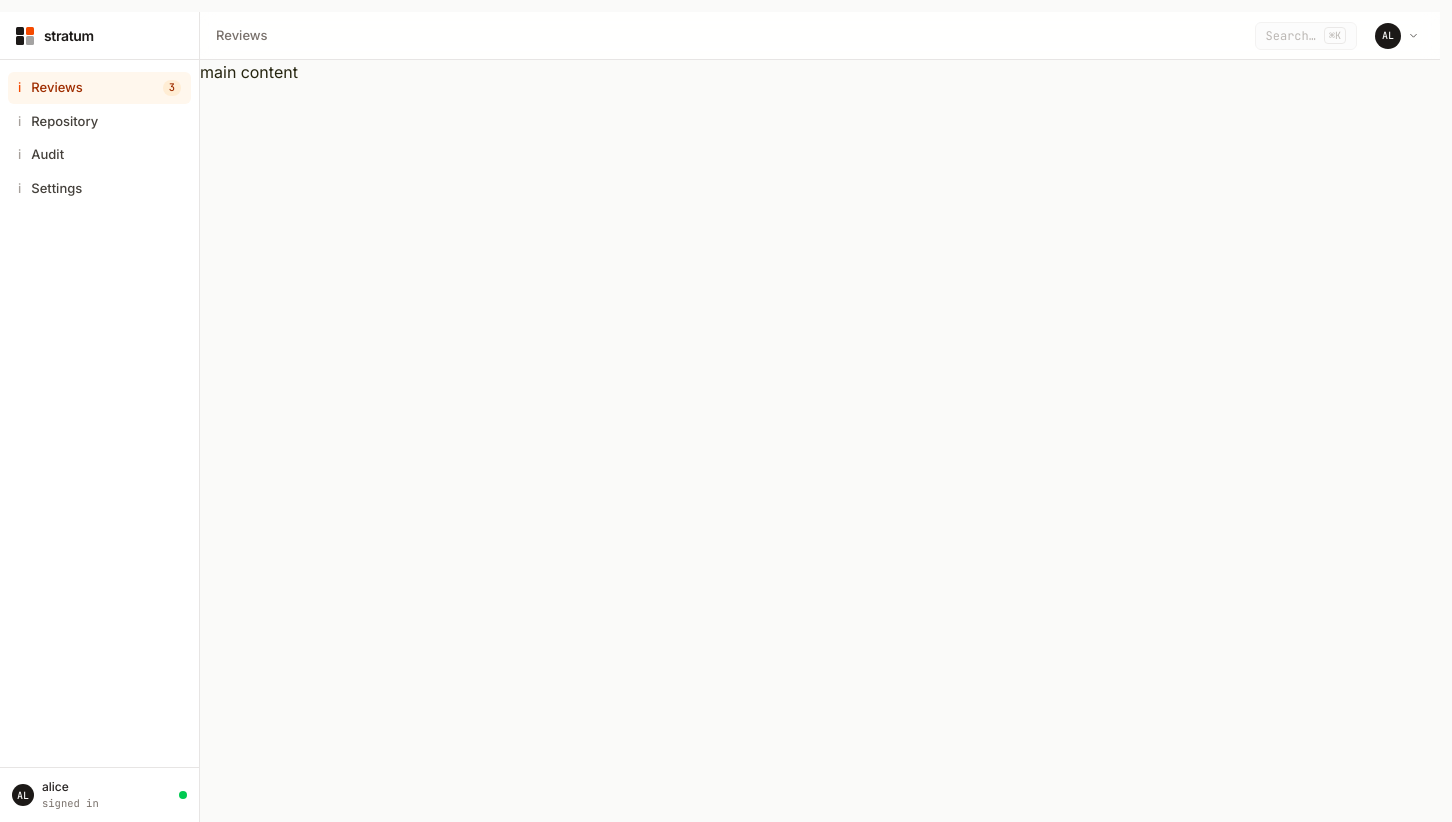
AppShell — user menu › shows the username in the menu after opening
Click the button "AL" at (1396, 36), box [1369,20,1424,50]
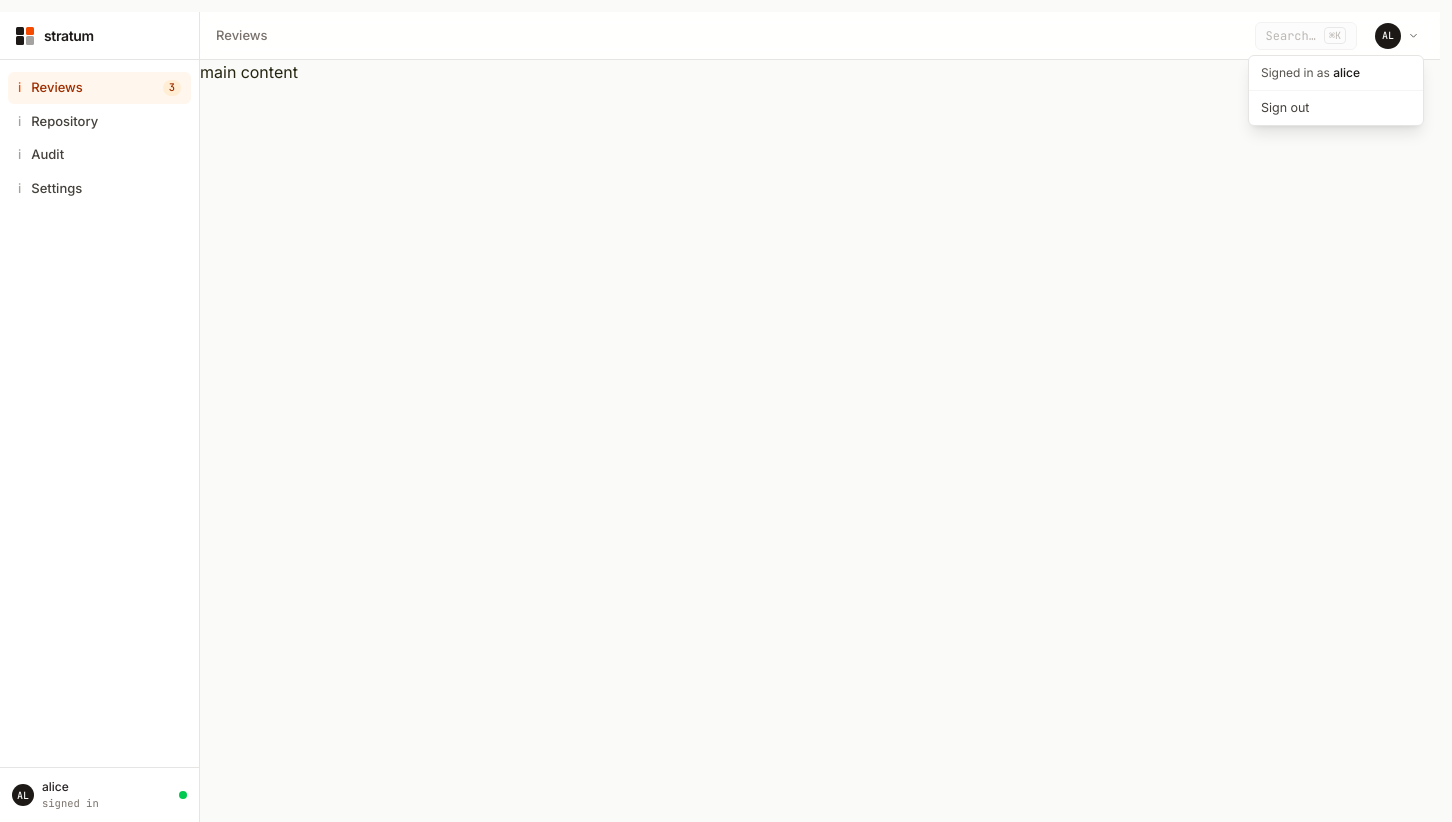
Check: the text "alice" next to "Signed in as" is shown, box [1333,64,1360,80]
Check: the menu item "Sign out" is shown, box [1249,90,1423,125]
